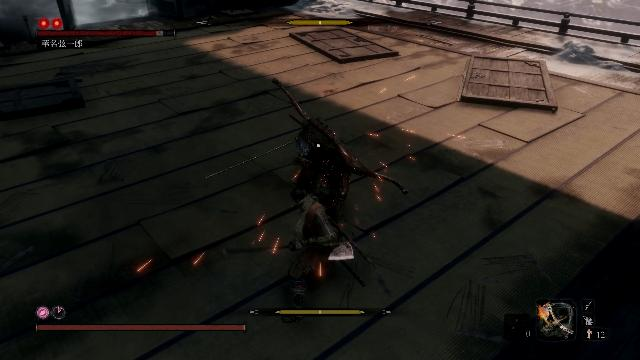sk: (277, 184, 360, 325)
